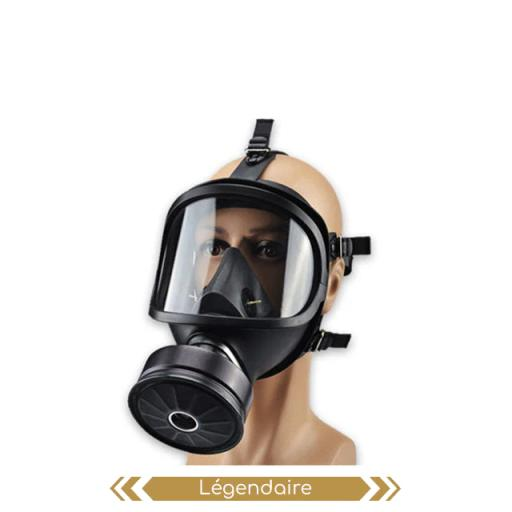mask: (132, 240, 302, 449)
